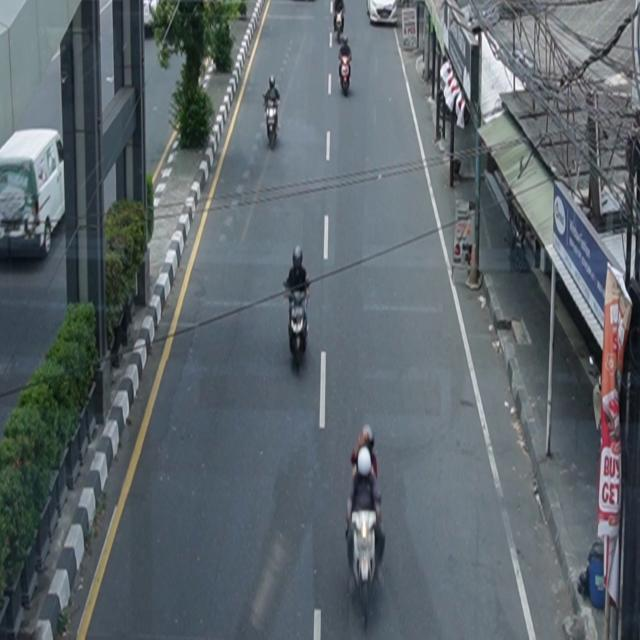car: (367, 1, 398, 26)
truck: (1, 128, 66, 260)
